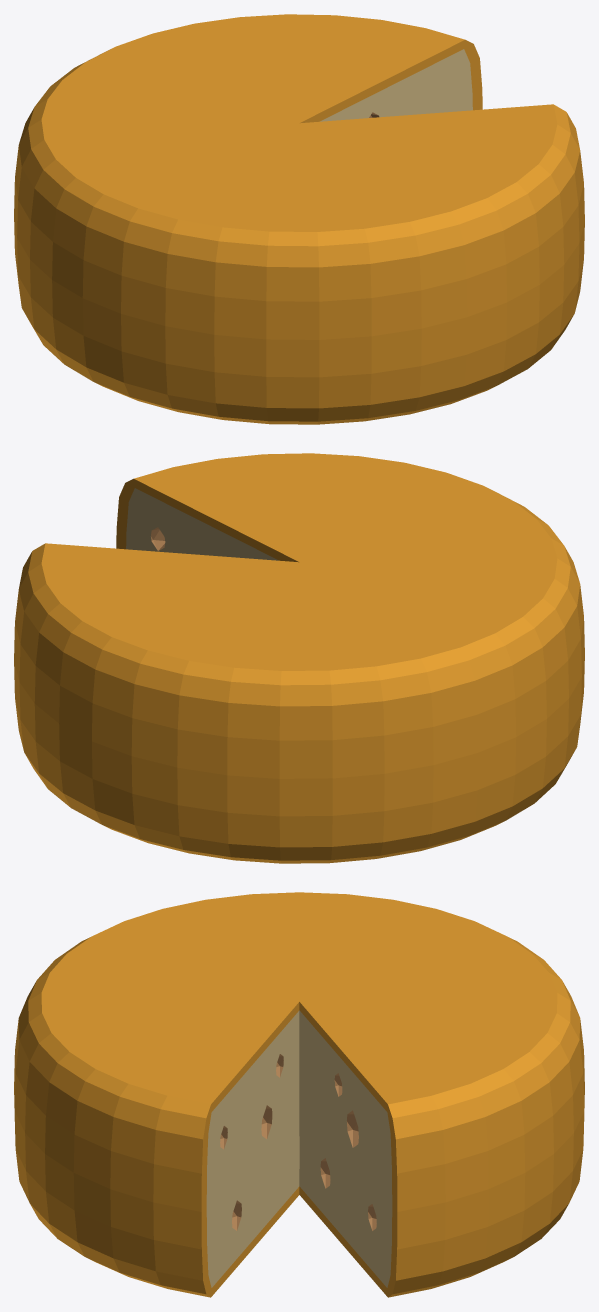
File: mdvl_food_cheese_wheel_01.glb
The picture shows the model from 3 angles, top to bottom: view 1: azimuth 30°, elevation 25°; view 2: azimuth 150°, elevation 25°; view 3: azimuth 270°, elevation 25°; orthographic projection.
Parts seen in each view (by area): view 1: mdvl_food_cheese_wheel_01; view 2: mdvl_food_cheese_wheel_01; view 3: mdvl_food_cheese_wheel_01.
Part boxes in pixels (left/top/right/bottom): mdvl_food_cheese_wheel_01: left=14, top=14, right=584, bottom=424; mdvl_food_cheese_wheel_01: left=14, top=453, right=584, bottom=863; mdvl_food_cheese_wheel_01: left=14, top=892, right=584, bottom=1297.
Bounding box in the file's own units: 0.2919 × 0.112 × 0.3.
Materials: 1 (1 with a texture image).
